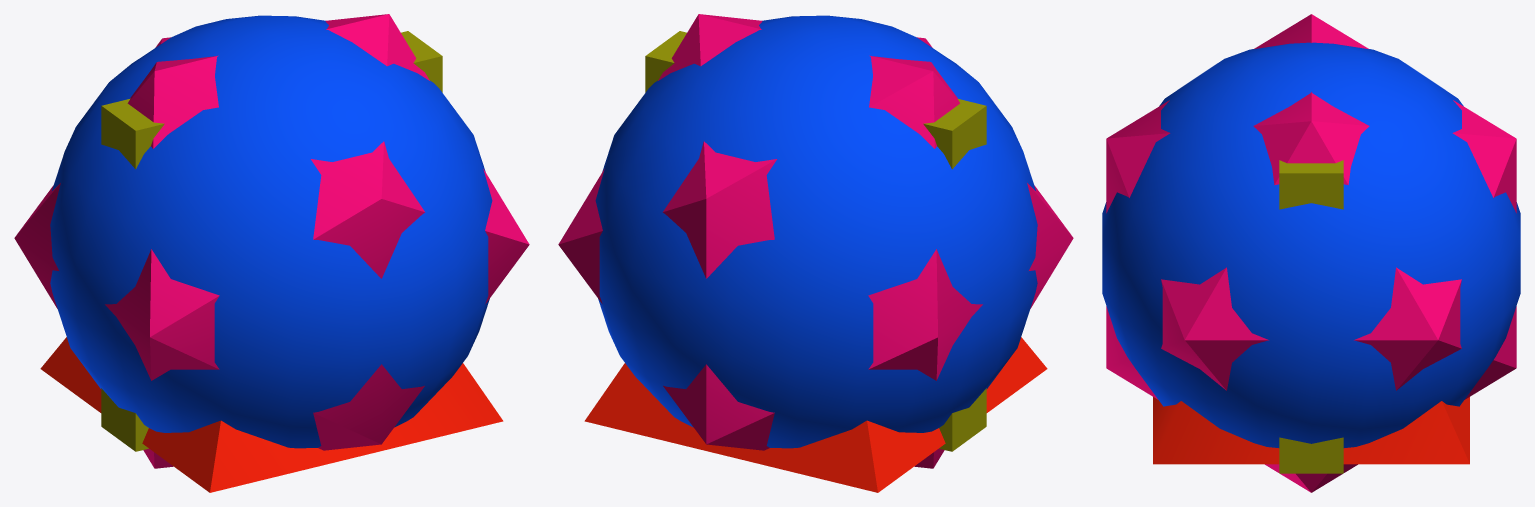
The model's file is XRDC_MUSIC_Instrument_Prefabs.fbx.
3 renders of one model, left to right at view 1: azimuth 30°, elevation 25°; view 2: azimuth 150°, elevation 25°; view 3: azimuth 270°, elevation 25°, orthographic. The views are drawn at different scales.
Visible parts, largest first — view 1: Instrument_2, Instrument_1, Instrument_4, Instrument_3; view 2: Instrument_2, Instrument_1, Instrument_4, Instrument_3; view 3: Instrument_2, Instrument_1, Instrument_4, Instrument_3.
Part boxes in pixels (x1,y1,x2,y2): Instrument_2: [50, 15, 492, 448]; Instrument_1: [14, 14, 529, 468]; Instrument_4: [40, 337, 503, 492]; Instrument_3: [101, 31, 442, 451]; Instrument_2: [595, 15, 1037, 448]; Instrument_1: [558, 14, 1073, 468]; Instrument_4: [584, 337, 1047, 492]; Instrument_3: [645, 31, 986, 451]; Instrument_2: [1102, 42, 1520, 447]; Instrument_1: [1106, 14, 1516, 492]; Instrument_4: [1153, 397, 1469, 464]; Instrument_3: [1279, 160, 1343, 473].
Size of the model in its own units: 56.52 by 57.1 by 55.94.
